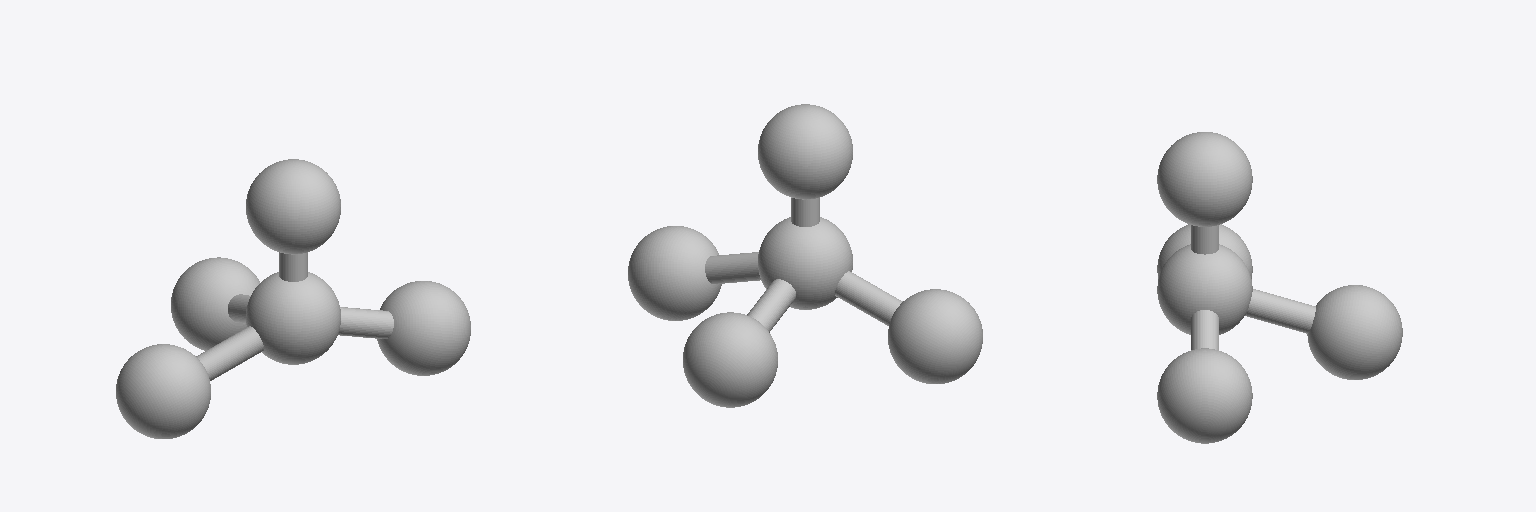
3 views of the same model, side by side, from view 1: azimuth 30°, elevation 25°; view 2: azimuth 150°, elevation 25°; view 3: azimuth 270°, elevation 25° (orthographic).
Parts seen in each view (by area): view 1: group_6_ID93, group_2_ID41, group_4_ID67, group_0_ID3, group_8_ID119, group_5.002_ID86, group_3.002_ID60, group_5_ID74, group_3_ID48; view 2: group_8_ID119, group_2_ID41, group_6_ID93, group_4_ID67, group_0_ID3, group_5.002_ID86, group_7.002_ID112, group_3.002_ID60, group_5_ID74, group_3_ID48, group_7_ID100; view 3: group_4_ID67, group_2_ID41, group_8_ID119, group_0_ID3, group_6_ID93, group_7.002_ID112, group_7_ID100, group_3.002_ID60.
Boxes of the visible parts, <box> form: group_6_ID93: <box>116,344,210,438</box>; group_2_ID41: <box>246,159,340,254</box>; group_4_ID67: <box>377,281,470,375</box>; group_0_ID3: <box>246,272,340,364</box>; group_8_ID119: <box>171,257,259,350</box>; group_5.002_ID86: <box>219,326,263,367</box>; group_3.002_ID60: <box>338,307,369,336</box>; group_5_ID74: <box>196,344,232,380</box>; group_3_ID48: <box>363,309,393,338</box>; group_8_ID119: <box>683,312,777,407</box>; group_2_ID41: <box>758,104,852,199</box>; group_6_ID93: <box>888,289,982,383</box>; group_4_ID67: <box>628,226,721,320</box>; group_0_ID3: <box>758,217,852,309</box>; group_5.002_ID86: <box>835,271,879,312</box>; group_7.002_ID112: <box>757,279,795,320</box>; group_3.002_ID60: <box>729,252,760,281</box>; group_5_ID74: <box>866,289,902,325</box>; group_3_ID48: <box>705,254,736,283</box>; group_7_ID100: <box>747,302,778,332</box>; group_4_ID67: <box>1157,348,1252,443</box>; group_2_ID41: <box>1157,132,1252,226</box>; group_8_ID119: <box>1307,285,1402,379</box>; group_0_ID3: <box>1157,244,1252,334</box>; group_6_ID93: <box>1157,224,1252,278</box>; group_7.002_ID112: <box>1245,289,1287,325</box>; group_7_ID100: <box>1281,299,1315,333</box>; group_3.002_ID60: <box>1191,310,1218,341</box>.
Size of the model in its own units: 8.29 by 5.54 by 5.15.